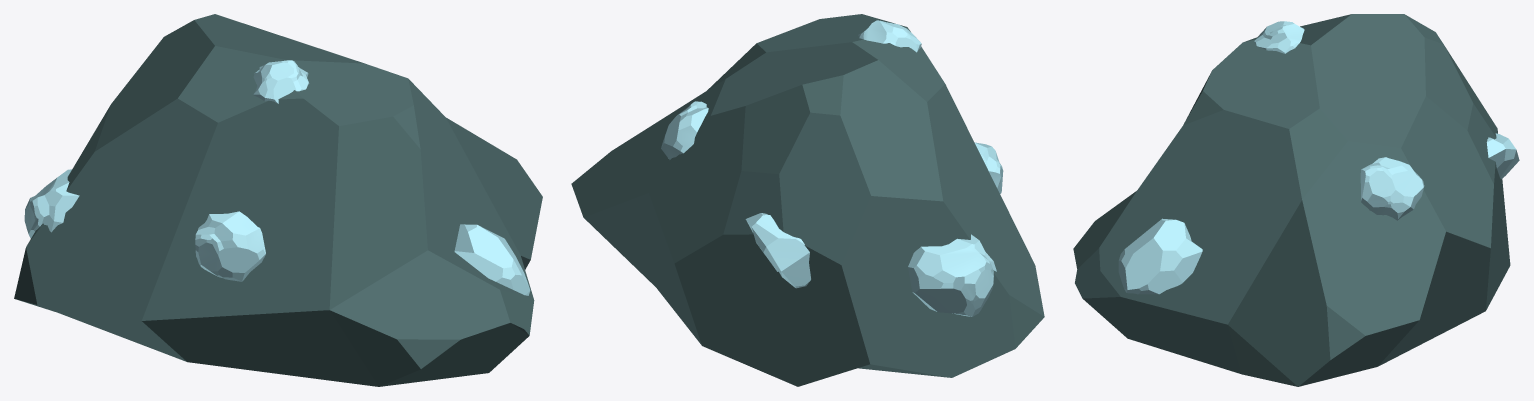
Rendered from Diamond3.fbx.
3 views of the same model, side by side, from view 1: azimuth 30°, elevation 25°; view 2: azimuth 150°, elevation 25°; view 3: azimuth 270°, elevation 25° (orthographic). The views are drawn at different scales.
Visible parts, largest first — view 1: Rock2, Nodes.002; view 2: Rock2, Nodes.002; view 3: Rock2, Nodes.002.
Boxes of the visible parts, box(x1,y1,x2,y2) form: Rock2: box(14, 14, 542, 386); Nodes.002: box(24, 60, 530, 295); Rock2: box(571, 14, 1044, 386); Nodes.002: box(661, 20, 1003, 316); Rock2: box(1073, 14, 1510, 386); Nodes.002: box(1118, 21, 1519, 294).
Bounding box in the file's own units: 183 × 105 × 155.
